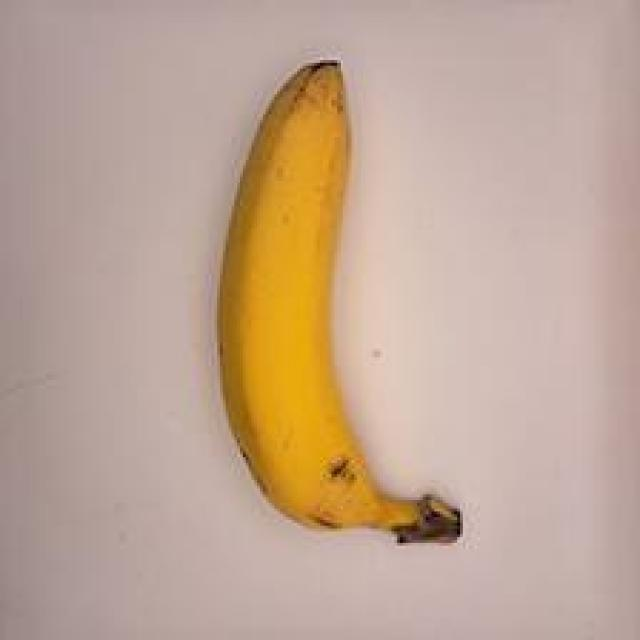Ripe: (157, 29, 496, 577)
